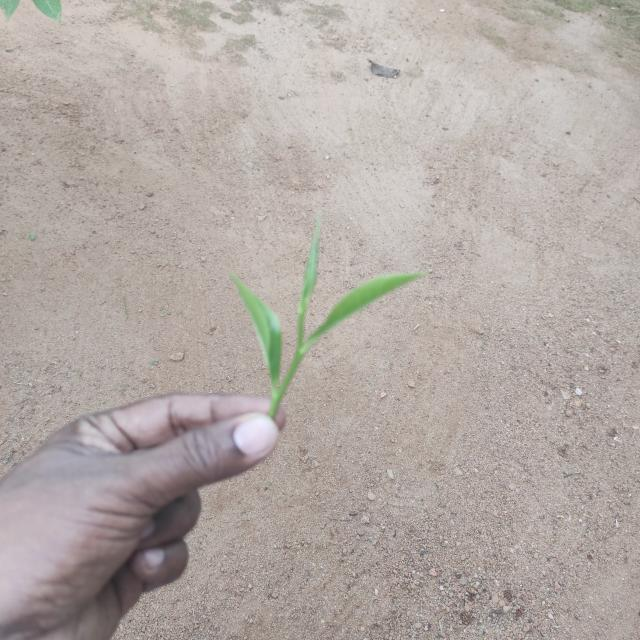unopened_leaf: (293, 206, 328, 328)
